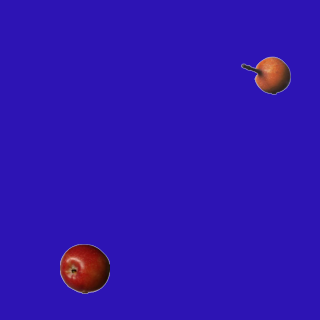Apple Braeburn: (59, 243, 109, 293)
Granadilla: (240, 50, 290, 100)
